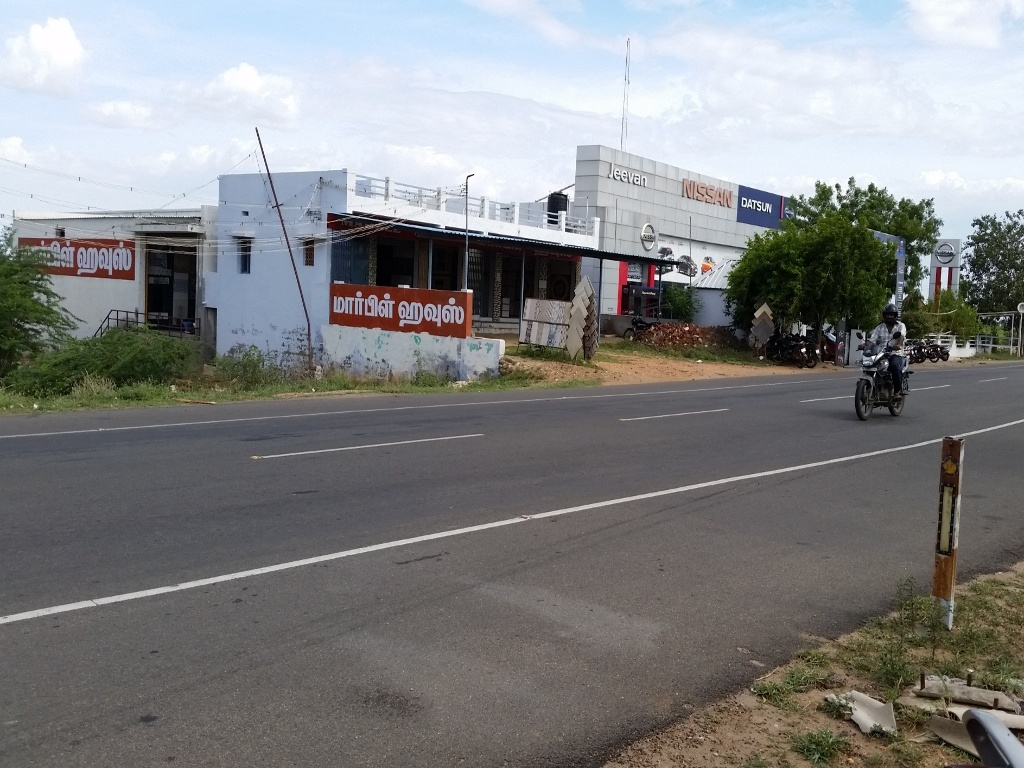biker: (836, 285, 944, 432)
helmet: (878, 300, 908, 333)
